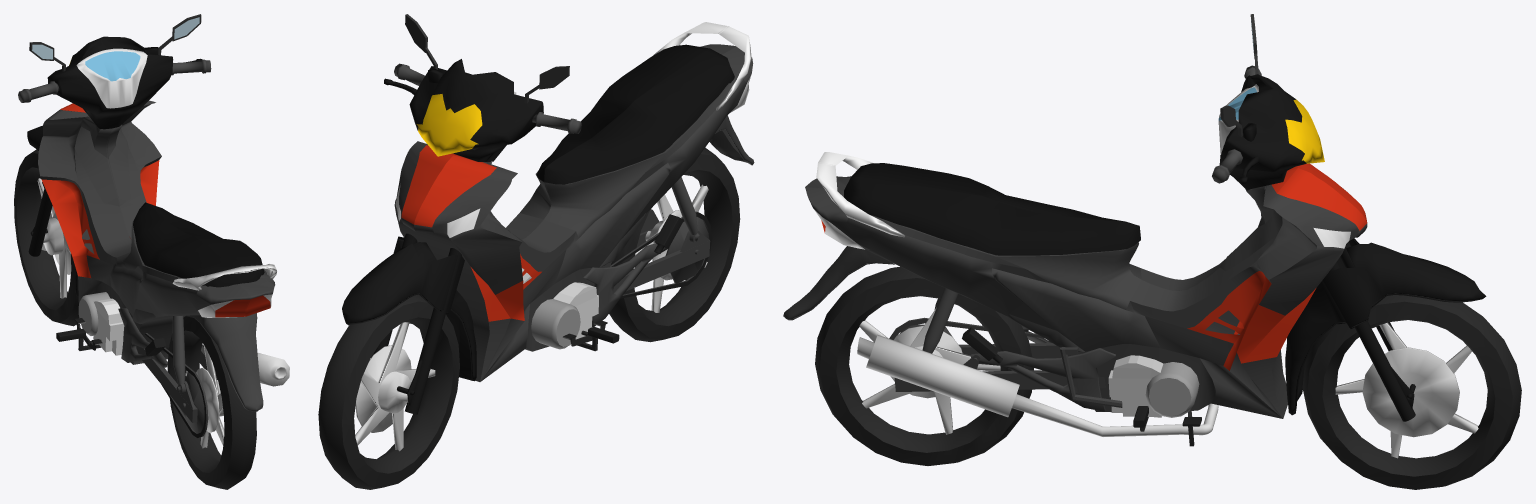
File: motor supra.fbx
3 views of the same model, side by side, from view 1: azimuth 30°, elevation 25°; view 2: azimuth 150°, elevation 25°; view 3: azimuth 270°, elevation 25° (orthographic). The views are drawn at different scales.
Visible parts, largest first — view 1: bodi, batok, ban blakang, ban depan; view 2: bodi, batok, ban depan, ban blakang; view 3: bodi, ban depan, batok, ban blakang.
Boxes of the visible parts, x1,y1,x2,y2 form: bodi: (38,100,289,438); batok: (18,14,211,295); ban blakang: (167,315,256,489); ban depan: (14,149,79,326); bodi: (394,22,754,381); batok: (342,14,581,414); ban depan: (318,294,459,489); ban blakang: (609,147,740,342); bodi: (783,152,1367,446); ban depan: (1302,295,1521,489); batok: (1212,14,1486,421); ban blakang: (815,266,1033,465).
Size of the model in its own units: 59.05 by 111 by 176.
